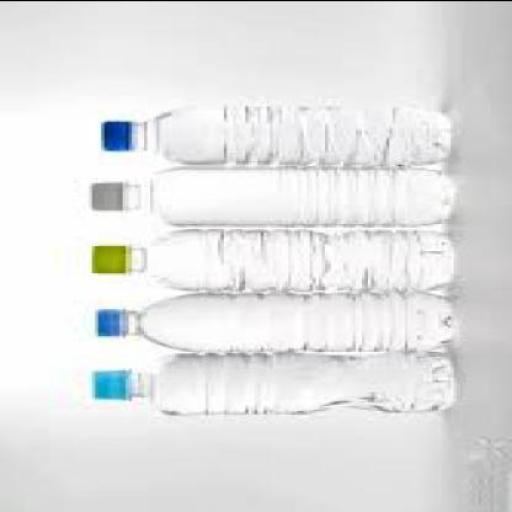plastic: (89, 224, 454, 288), (89, 347, 454, 410), (92, 288, 451, 352), (98, 100, 447, 163), (89, 165, 454, 224), (89, 364, 129, 397), (88, 241, 126, 271), (89, 178, 123, 208), (98, 119, 132, 148), (92, 306, 122, 334)
